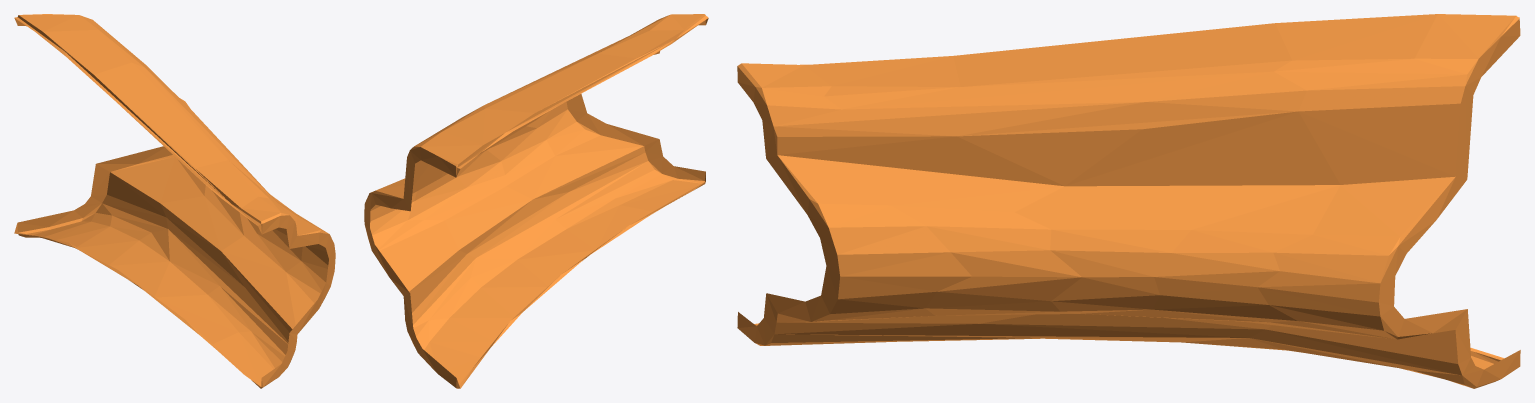
The model's file is youbot_test_export_urdf_ME_Arm2_13_sub0_vis_2.dae.
3 renders of one model, left to right at view 1: azimuth 30°, elevation 25°; view 2: azimuth 150°, elevation 25°; view 3: azimuth 270°, elevation 25°, orthographic. The views are drawn at different scales.
Visible parts, largest first — view 1: Node_0000015E15F59B00; view 2: Node_0000015E15F59B00; view 3: Node_0000015E15F59B00.
Boxes of the visible parts, <box> form: Node_0000015E15F59B00: <box>14,14,335,388</box>; Node_0000015E15F59B00: <box>364,14,708,388</box>; Node_0000015E15F59B00: <box>737,14,1520,388</box>.
Bounding box in the file's own units: 0.0469 × 0.0717 × 0.1436.
